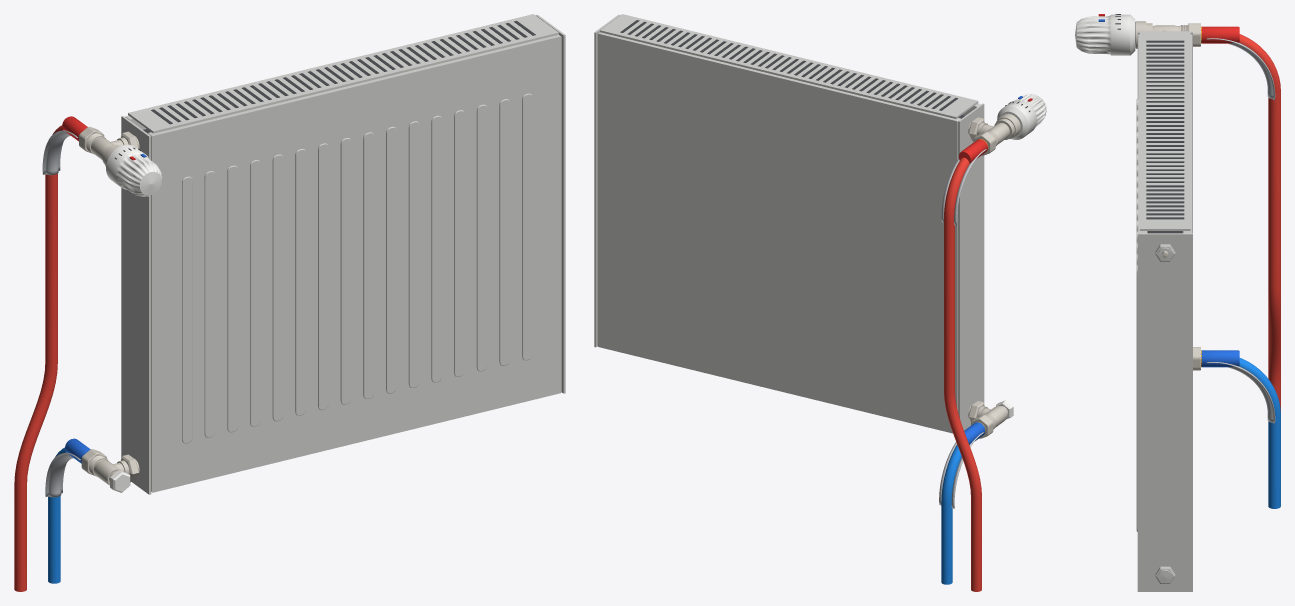
File: panel_node_panel21_angled.glb
3 views of the same model, side by side, from view 1: azimuth 30°, elevation 25°; view 2: azimuth 150°, elevation 25°; view 3: azimuth 270°, elevation 25° (orthographic). The views are drawn at different scales.
Parts seen in each view (by area): view 1: панель, боковина, решётка, труба 16, риф.004, риф.013, риф.010, риф.001, риф.007, риф.011, риф, риф.006 (+13 smaller); view 2: панель.001, боковина, решётка, труба 16, труба 16.001, боковина.001, термоголовка; view 3: боковина.001, решётка, труба 16, термоголовка, труба 16.001, втулка, втулка.001, панель.001, фиксатор 90, риф.015, фиксатор 90.001, панель (+1 smaller).
Boxes of the visible parts, box(x1,y1,x2,y2) form: панель: box(148, 35, 561, 492); боковина: box(121, 116, 151, 494); решётка: box(128, 14, 558, 133); труба 16: box(14, 125, 63, 591); риф.004: box(272, 154, 283, 421); риф.013: box(476, 104, 487, 371); риф.010: box(408, 121, 419, 387); риф.001: box(204, 171, 215, 437); риф.007: box(340, 138, 351, 404); риф.011: box(431, 115, 441, 382); риф: box(182, 176, 192, 443); риф.006: box(318, 143, 328, 410); панель.001: box(597, 32, 960, 433); боковина: box(958, 103, 984, 430); решётка: box(600, 14, 978, 118); труба 16: box(944, 157, 981, 591); труба 16.001: box(941, 444, 961, 584); боковина.001: box(594, 14, 620, 347); термоголовка: box(997, 94, 1046, 139); боковина.001: box(1137, 233, 1192, 591); решётка: box(1140, 31, 1190, 230); труба 16: box(1239, 34, 1280, 411); термоголовка: box(1075, 14, 1135, 55); труба 16.001: box(1239, 358, 1280, 508); втулка: box(1201, 26, 1239, 43); втулка.001: box(1201, 350, 1239, 367); панель.001: box(1183, 34, 1192, 233); фиксатор 90: box(1206, 38, 1275, 100); риф.015: box(1136, 264, 1137, 531); фиксатор 90.001: box(1206, 362, 1275, 424); панель: box(1138, 34, 1146, 233).
Size of the model in its own units: 0.716 by 0.6835 by 0.26.
